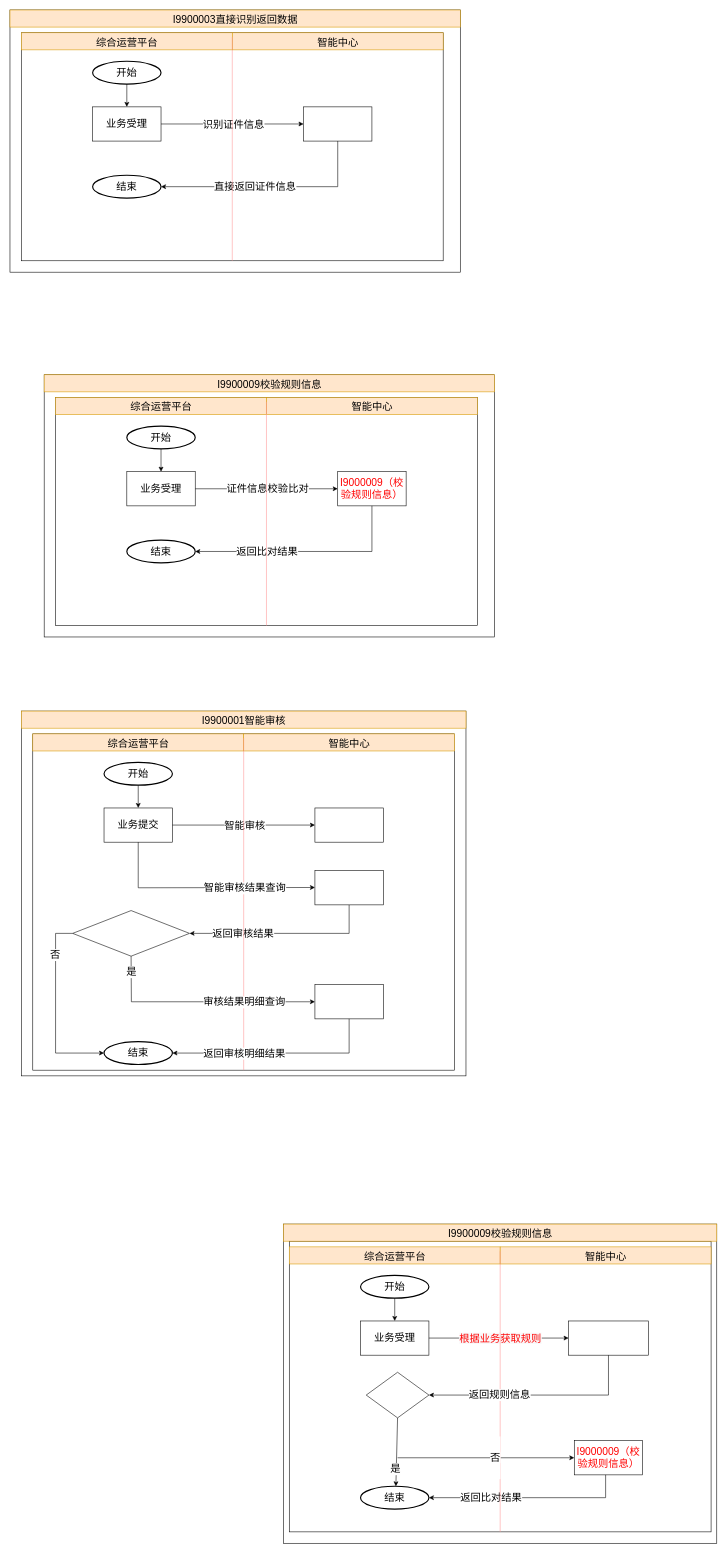
Image size: 727x1553. Some labels were removed from this diagram. Here are the shapes that lost their labels. From the top down, the centre of each, then its label:
At (337,123): "I9900003（智能服务 ）".
At (348,824): "I9000001（智能审核 ）".
At (348,887): "I9000002（智能审核结果查询 ）".
At (131,933): "是否查看结果详情".
At (348,1001): "I9000007（智能审核结果明细查询 ）".
At (608,1337): "I0000074（查询业务对应规则 ）".
At (397,1395): "是否为空".
